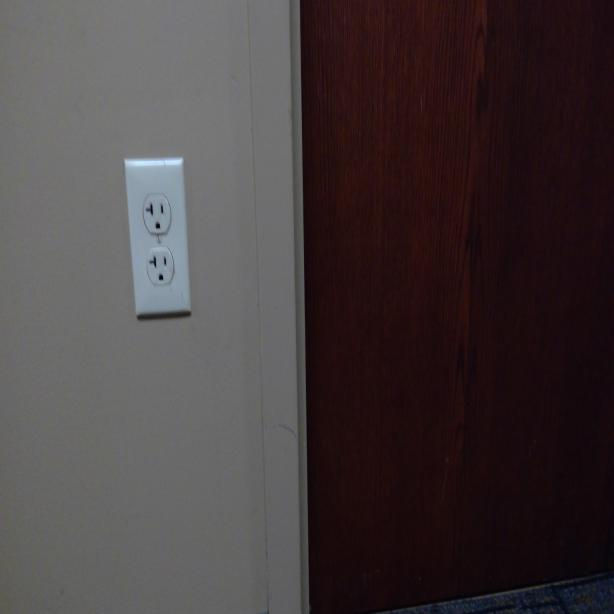typeb: (142, 190, 172, 237), (147, 250, 173, 284)
